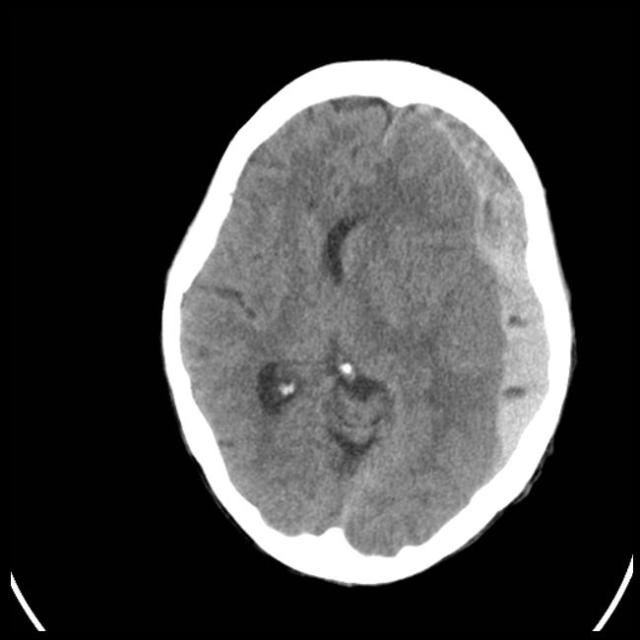lesion: (160, 67, 573, 581)
